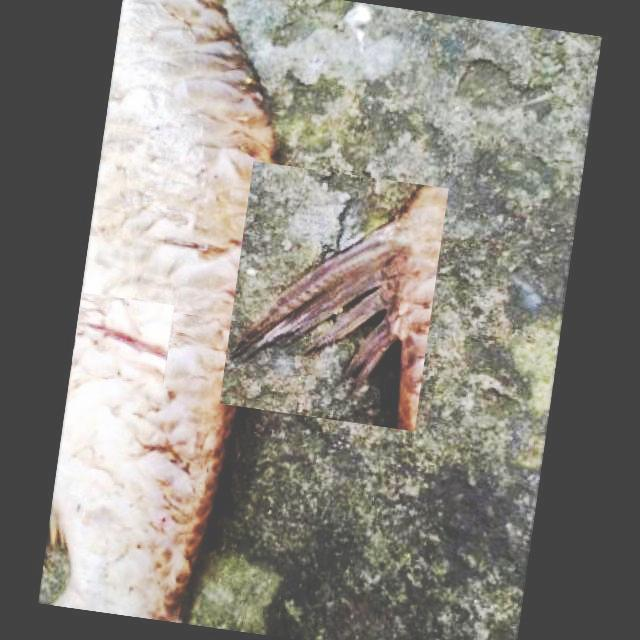Aeromonas Septicemia: (50, 0, 278, 628)
